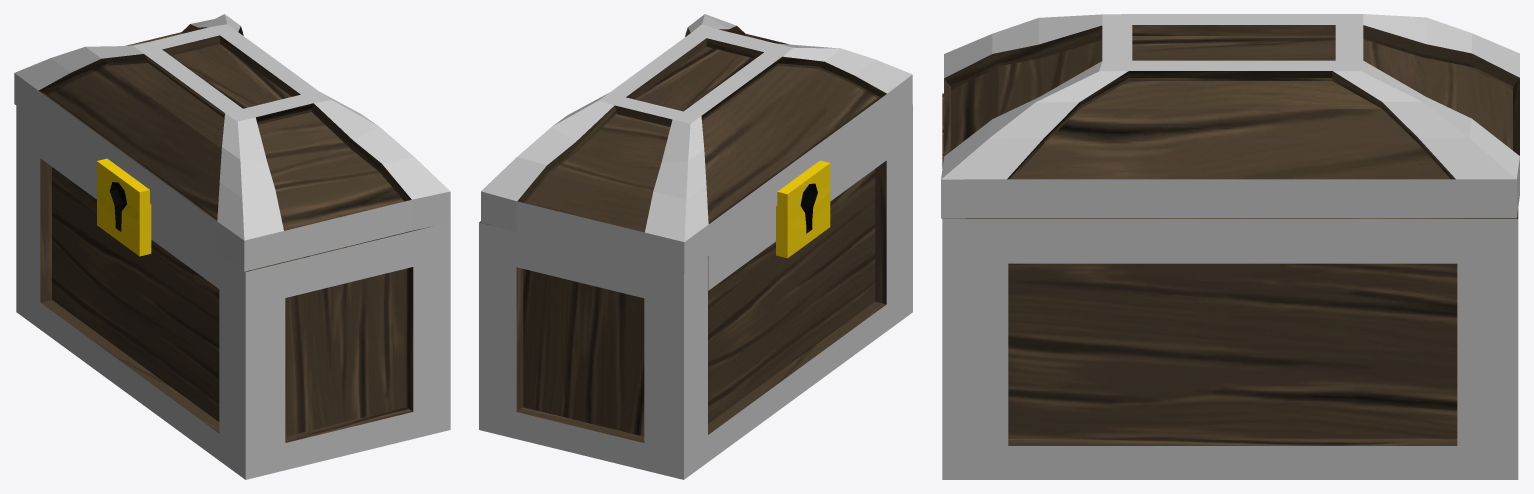
File: Chest.fbx
3 renders of one model, left to right at view 1: azimuth 30°, elevation 25°; view 2: azimuth 150°, elevation 25°; view 3: azimuth 270°, elevation 25°, orthographic. The views are drawn at different scales.
Parts seen in each view (by area): view 1: Cube; view 2: Cube; view 3: Cube.
Part boxes in pixels (bbox=[...]): Cube: bbox=[14, 14, 450, 479]; Cube: bbox=[479, 14, 912, 479]; Cube: bbox=[941, 14, 1519, 479].
Bounding box in the file's own units: 148 × 194 × 273.
